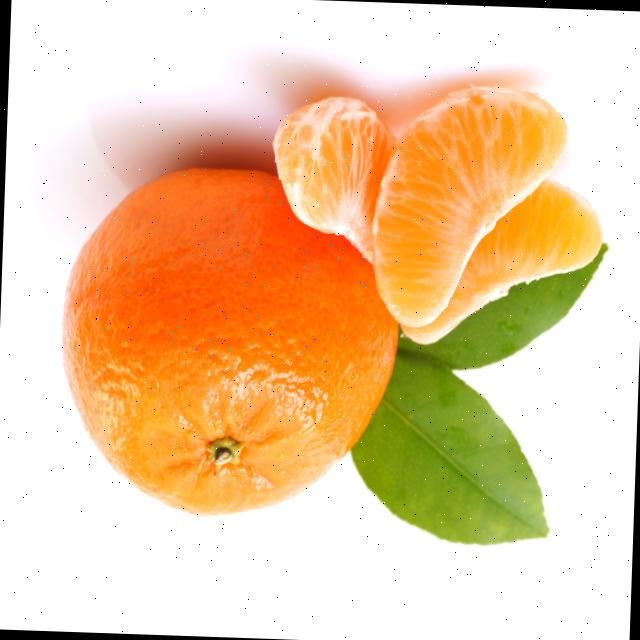Jeruk: (54, 162, 404, 524), (367, 81, 569, 334), (398, 174, 604, 352), (267, 94, 398, 266)
